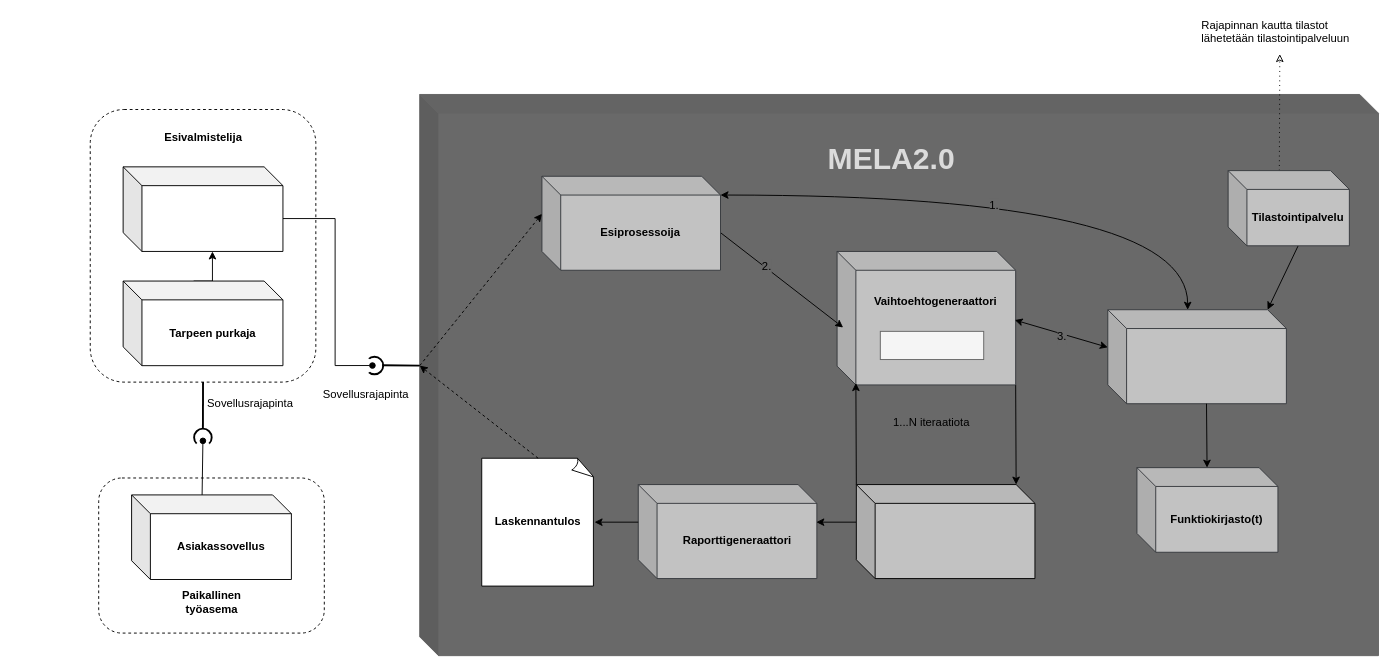
Image size: 1395x672. Some labels were removed from this diagram. Here are the shapes that lost their labels. From the top down, the box of each, then its label:
(122, 166, 283, 251): Skriptien ja ajoparametrien asettaja
(879, 330, 984, 360): Simulaattoriydin
(1107, 309, 1286, 404): Hakukone(et)
(855, 484, 1035, 579): Optimoija
